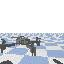drone: (0, 36, 41, 56)
